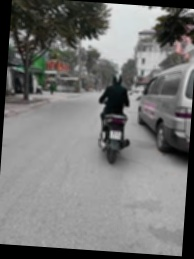Bien-so: (114, 128, 126, 138)
